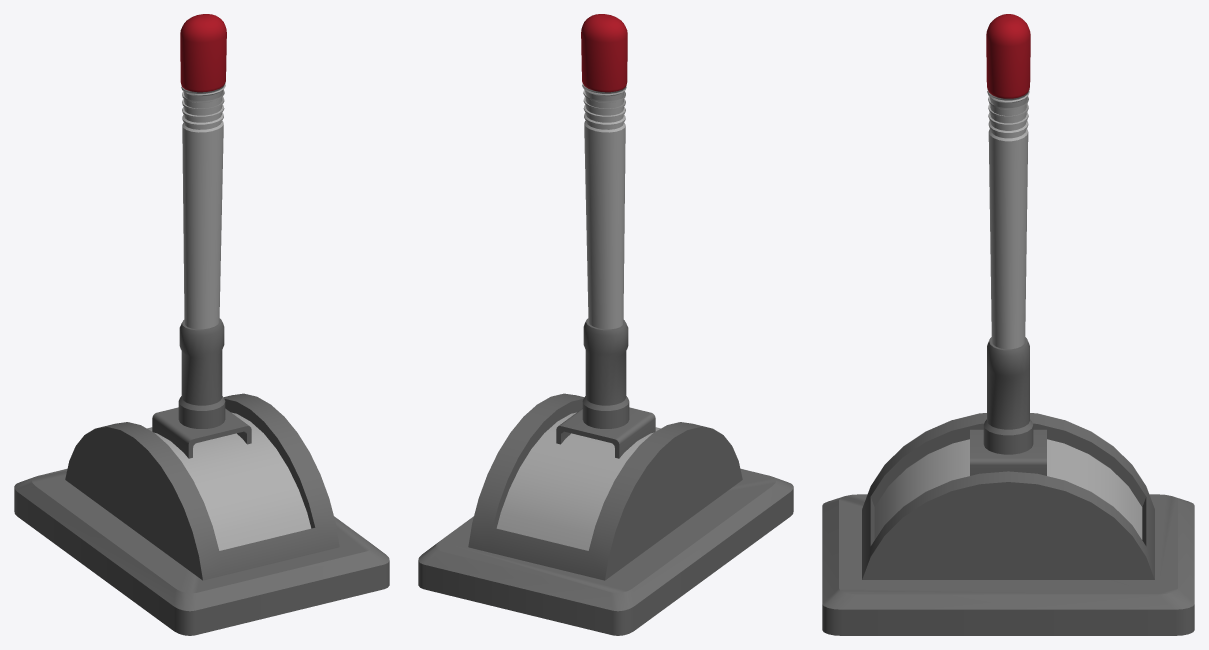
The model's file is lever.fbx.
3 views of the same model, side by side, from view 1: azimuth 30°, elevation 25°; view 2: azimuth 150°, elevation 25°; view 3: azimuth 270°, elevation 25° (orthographic). The views are drawn at different scales.
Parts seen in each view (by area): view 1: Circle, Cube, Plane; view 2: Circle, Cube, Plane; view 3: Circle, Cube, Plane.
Part boxes in pixels (x1,y1,x2,y2): Circle: (65,393,339,580); Cube: (14,468,389,635); Plane: (152,14,251,458); Circle: (468,393,742,580); Cube: (418,468,793,635); Plane: (556,14,655,458); Circle: (862,413,1154,579); Cube: (822,494,1194,635); Plane: (970,14,1046,475).
Size of the model in its own units: 200 by 478 by 286.
